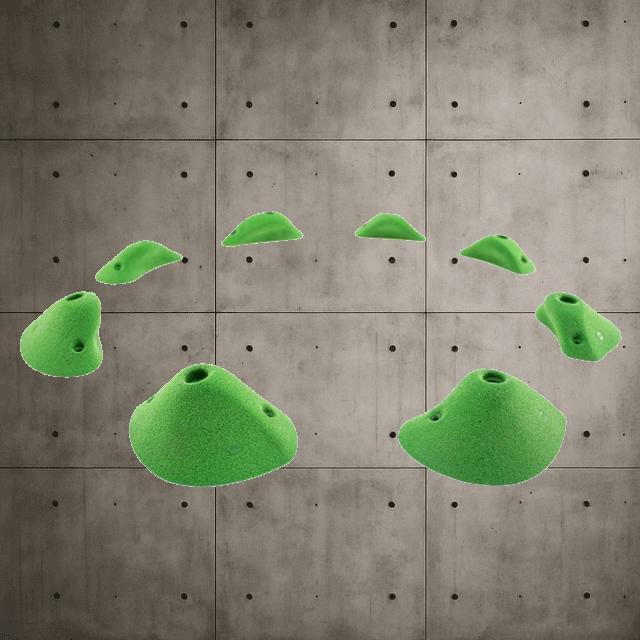Jug: (128, 362, 298, 486), (397, 368, 567, 487), (19, 290, 103, 378), (534, 290, 622, 362), (94, 240, 182, 284), (458, 233, 536, 274), (220, 210, 304, 246), (354, 212, 426, 240)
